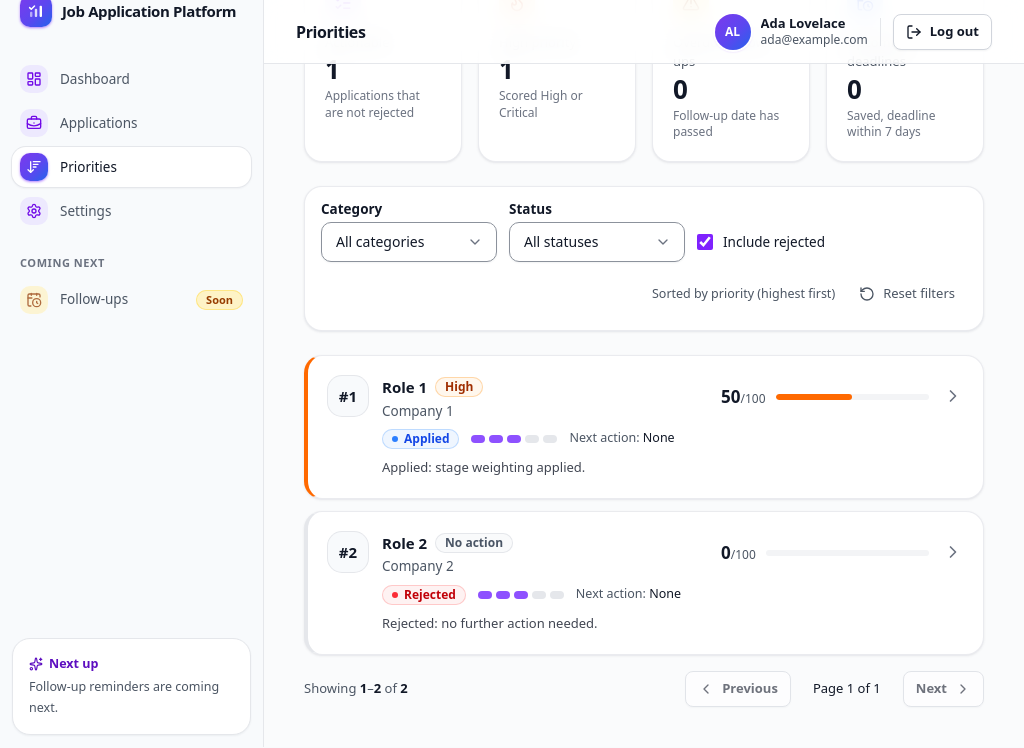
Test: Priorities page: breakdown › a rejected application explains the override
(page scrolled)
What coordinates should you click on to do the following:
click the button with aria-label "Role 2 at Company 2: view priority breakdown"
I would click on:
 (405, 543)
Its box is [382,532,427,554].
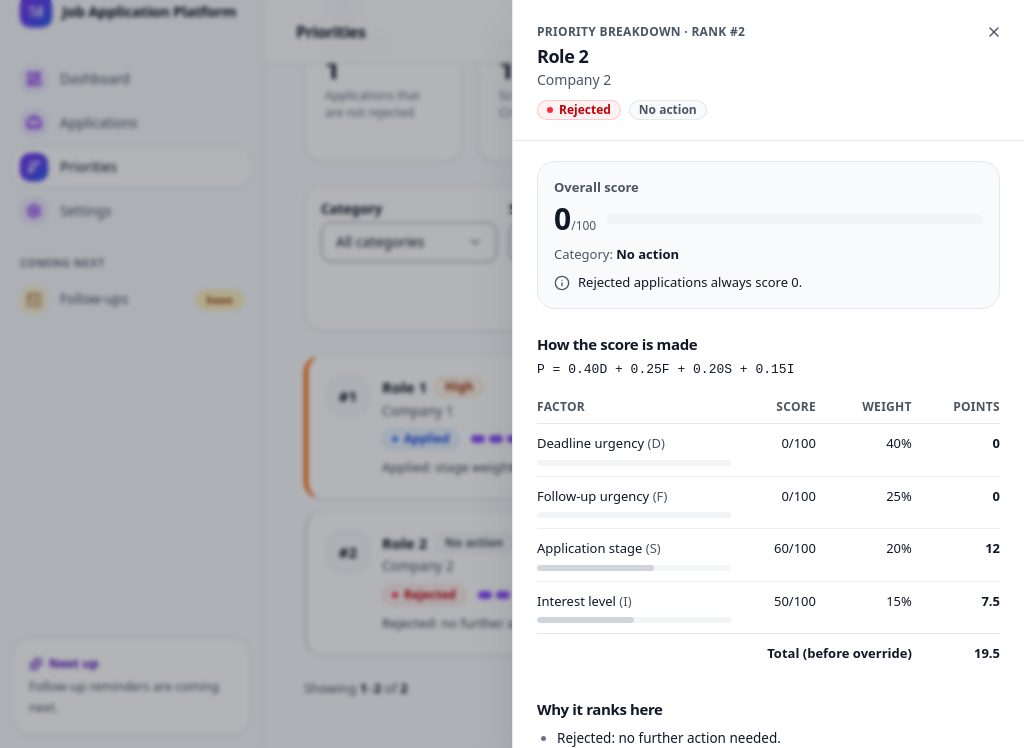
Result: the element with test id "priority-override" reads "Rejected applications always score 0." at [578,273,802,291]
